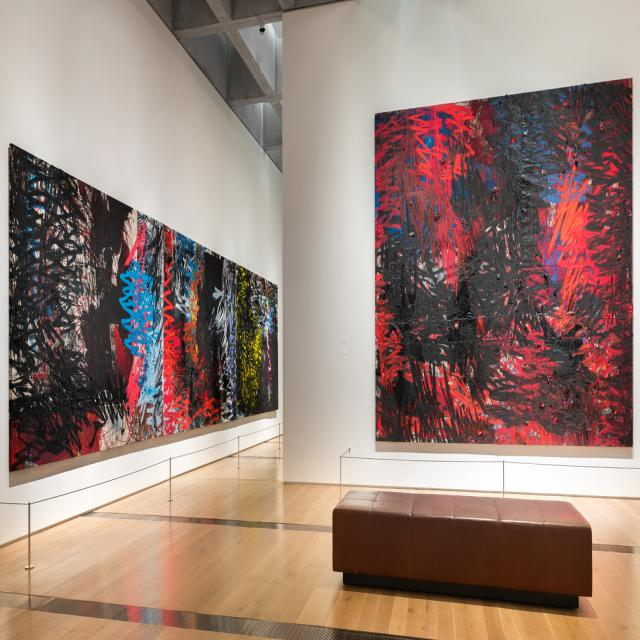Tablo: (374, 76, 633, 449), (7, 139, 279, 477)
